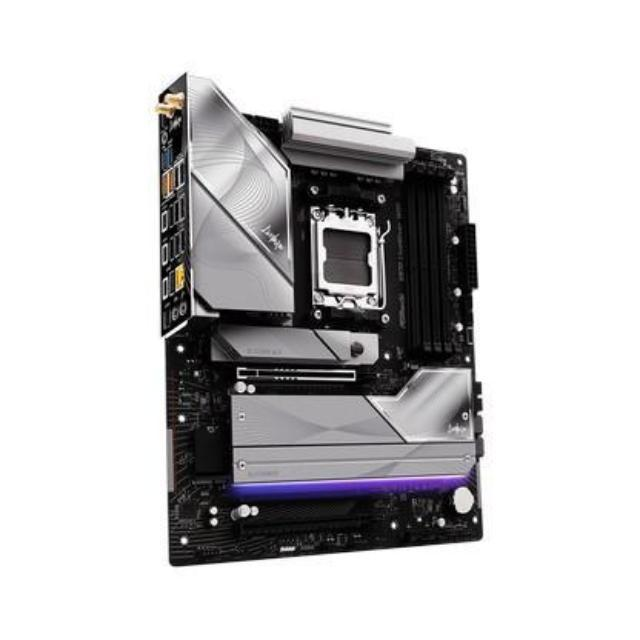Mainboard: (153, 70, 487, 576)
